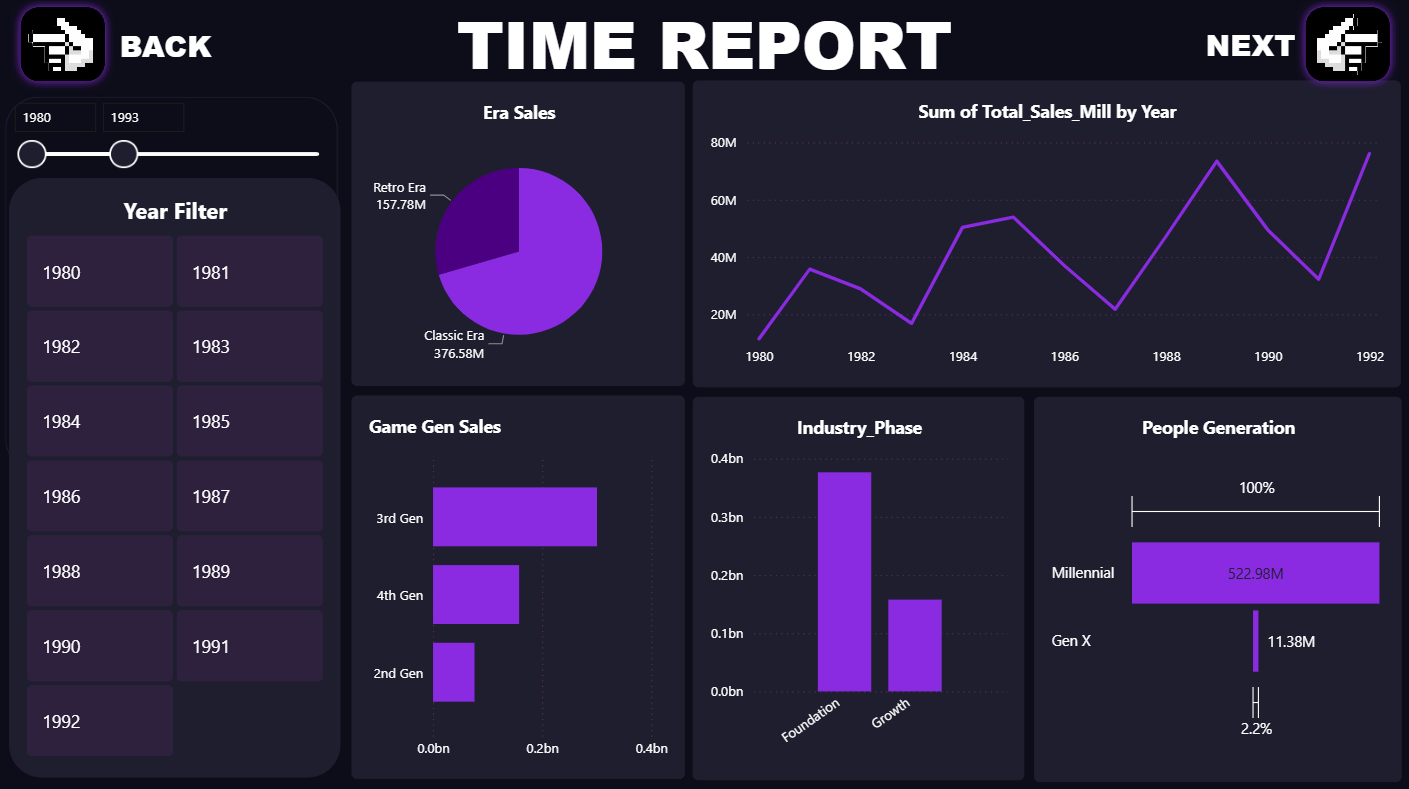

Layout of this report page (visuals, bound fields, positions):
{"tool":"powerbi","page":{"name":"TIME REPORT","canvas":[1280,720],"ordinal":4},"visuals":[{"type":"textbox","title":"TIME REPORT ","box":[258.5,0,762.9,74.7],"z":0},{"type":"slicer","title":"Year Filter","fields":{"Values":["Dim_time.Year"]},"box":[5.8,89,301.3,340.2],"z":1000},{"type":"lineChart","fields":{"Category":["Dim_time.Year"],"Y":["Sum(Fact_Sales.Total_Sales_Mill)"]},"box":[629.9,75.3,642.1,278.5],"z":2000},{"type":"pieChart","title":"Era Sales","fields":{"Category":["Dim_time.Era_Category"],"Y":["Sum(Fact_Sales.Total_Sales_Mill)"]},"box":[320.3,76.3,302.6,276.1],"z":3000},{"type":"barChart","title":"Game Gen Sales","fields":{"Category":["Dim_time.Game_Generation"],"Y":["Sum(Fact_Sales.Total_Sales_Mill)"]},"box":[320.3,360.9,302,348.4],"z":4000},{"type":"columnChart","title":"Industry_Phase","fields":{"Category":["Dim_time.Industry_Phase"],"Y":["Sum(Fact_Sales.Total_Sales_Mill)"]},"box":[629.9,361.5,301.1,347.8],"z":5000},{"type":"funnel","title":"People Generation","fields":{"Category":["Dim_time.People_Generation"],"Y":["Sum(Fact_Sales.Total_Sales_Mill)"]},"box":[938.7,361.5,333.4,349.3],"z":6000},{"type":"advancedSlicerVisual","title":"Year Filter","fields":{"Values":["Dim_time.Year"]},"box":[9.2,163.8,300.5,543.9],"z":7000},{"type":"actionButton","box":[11.6,0,93,83.9],"z":8000},{"type":"textbox","title":"BACK","box":[105.9,23.5,91.5,39.7],"z":9000},{"type":"textbox","title":"NEXT","box":[1080.8,22.9,109.8,39.7],"z":10000},{"type":"actionButton","box":[1177.5,0,93,83.9],"z":11000}]}

Visuals, with their boxes in screenshot pixels (x1, y1, x2, y2), scaled from the page's 1280x720 canvas onto the 1409x789 screenshot:
"TIME REPORT " textbox: x1=285 y1=0 x2=1124 y2=82
"Year Filter" slicer: x1=6 y1=98 x2=338 y2=470
lineChart - Dim_time.Year x Sum(Fact_Sales.Total_Sales_Mill): x1=693 y1=83 x2=1400 y2=388
"Era Sales" pieChart: x1=353 y1=84 x2=686 y2=386
"Game Gen Sales" barChart: x1=353 y1=395 x2=685 y2=777
"Industry_Phase" columnChart: x1=693 y1=396 x2=1025 y2=777
"People Generation" funnel: x1=1033 y1=396 x2=1400 y2=779
"Year Filter" advancedSlicerVisual: x1=10 y1=179 x2=341 y2=776
actionButton: x1=13 y1=0 x2=115 y2=92
"BACK" textbox: x1=117 y1=26 x2=217 y2=69
"NEXT" textbox: x1=1190 y1=25 x2=1311 y2=69
actionButton: x1=1296 y1=0 x2=1399 y2=92
